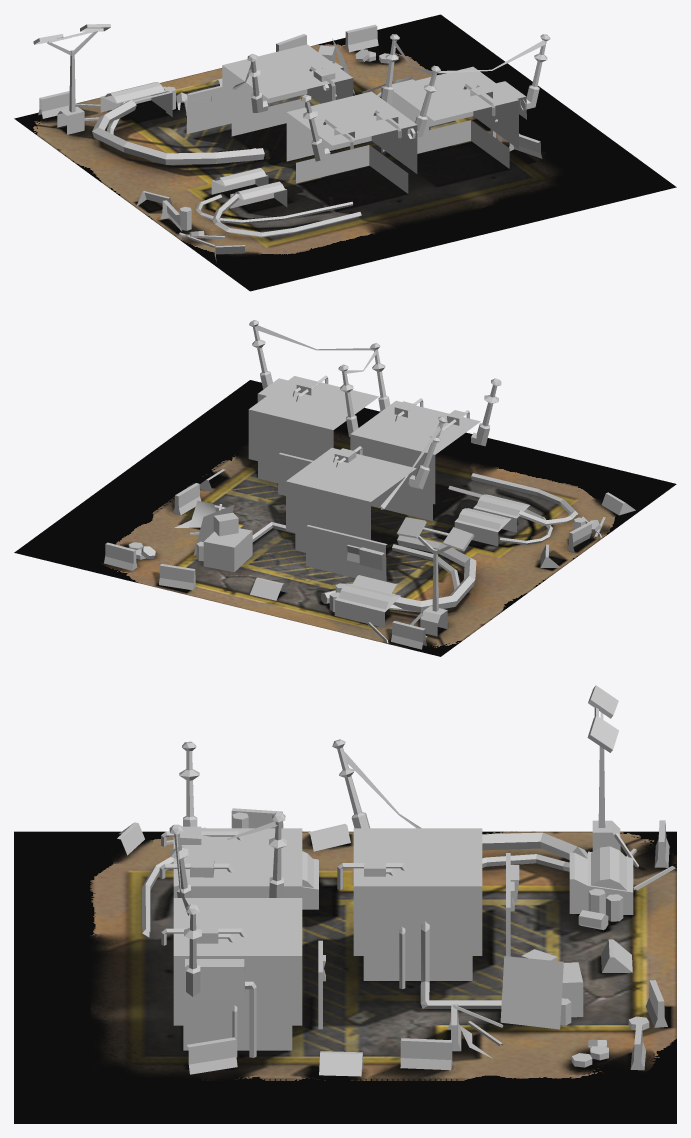
File: famuchang.FBX
3 renders of one model, top to bottom at view 1: azimuth 30°, elevation 25°; view 2: azimuth 150°, elevation 25°; view 3: azimuth 270°, elevation 25°, orthographic. The views are drawn at different scales.
Visible parts, largest first — view 1: famuchang_di, famuchang; view 2: famuchang_di, famuchang; view 3: famuchang_di, famuchang.
Part boxes in pixels (x1,y1,x2,y2): famuchang_di: (14,14,676,291); famuchang: (33,24,550,261); famuchang_di: (14,380,676,656); famuchang: (104,320,635,649); famuchang_di: (14,831,676,1123); famuchang: (117,685,675,1076).
Bounding box in the file's own units: 266 × 78.63 × 253.
